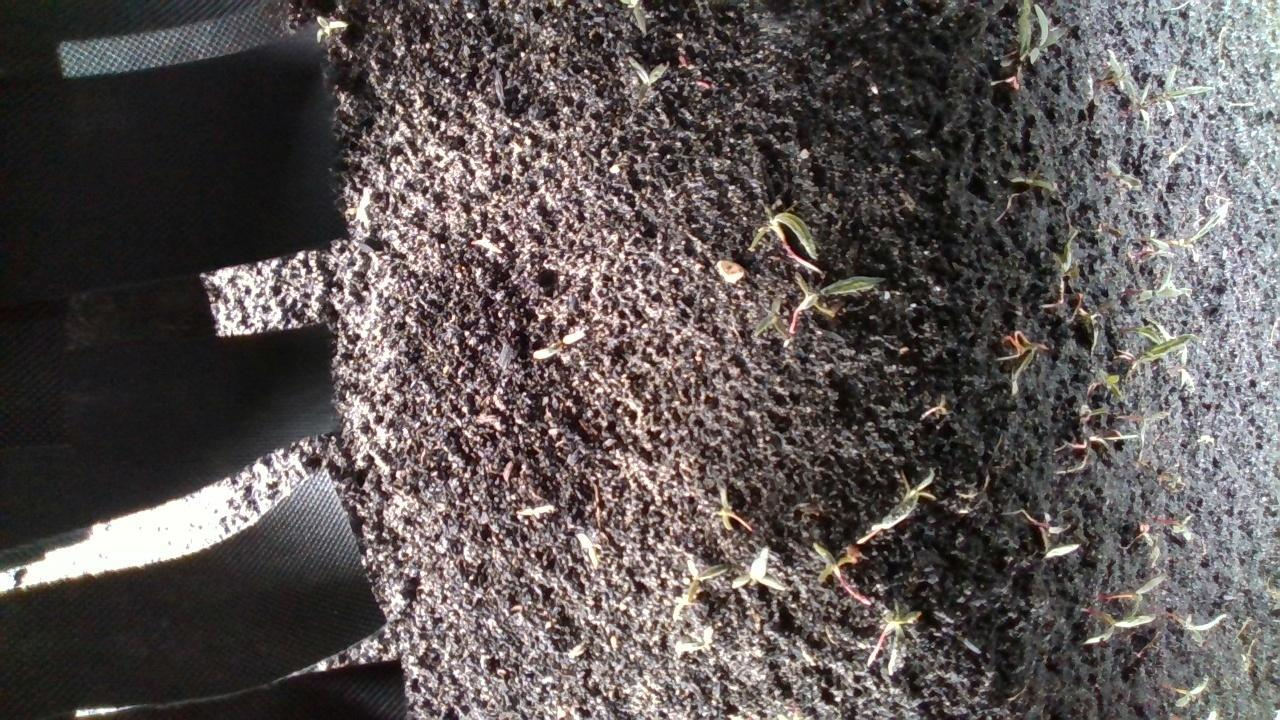weed: (703, 480, 764, 535)
